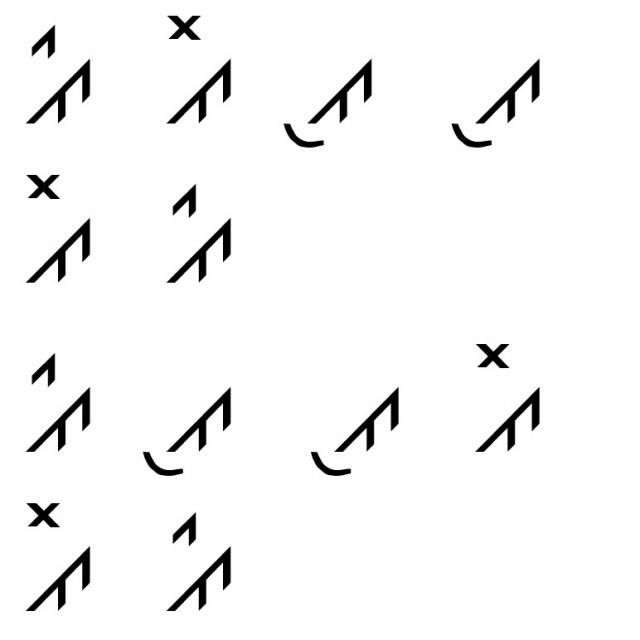kaw: (270, 52, 382, 157), (138, 378, 242, 484), (440, 56, 552, 152), (303, 378, 404, 483)
ki: (12, 342, 110, 470), (15, 17, 104, 131), (160, 182, 238, 308), (150, 507, 238, 618)
ko: (446, 334, 555, 468), (143, 11, 240, 133), (18, 170, 104, 292), (17, 493, 97, 621)
